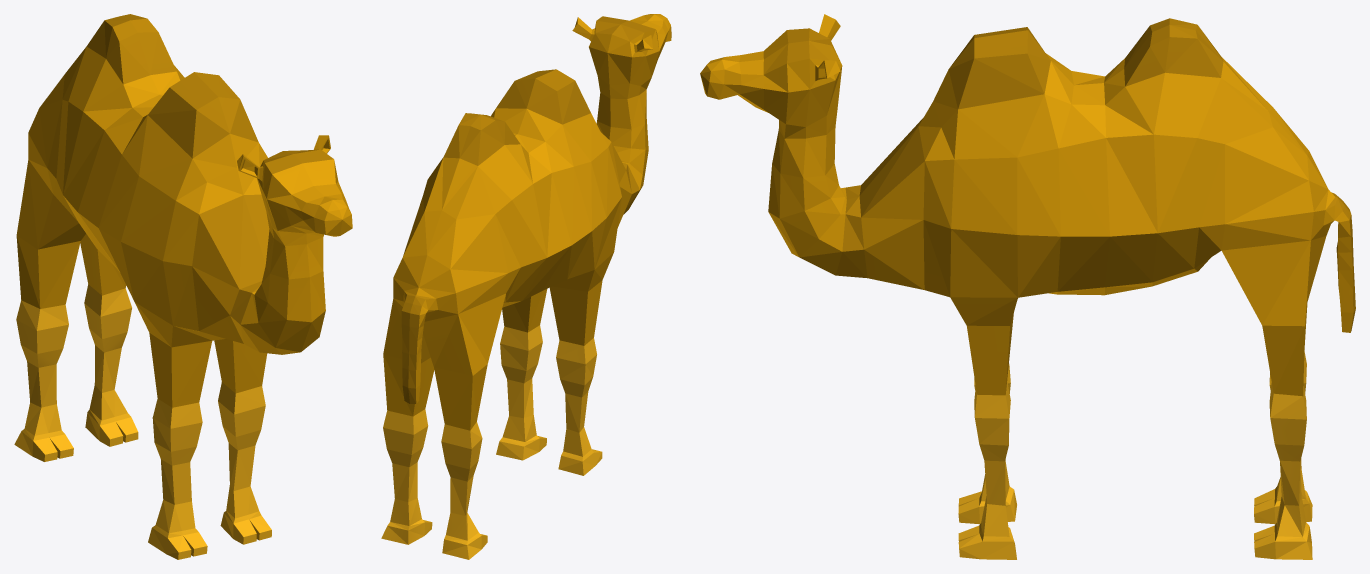
The model's file is camel.fbx.
3 views of the same model, side by side, from view 1: azimuth 30°, elevation 25°; view 2: azimuth 150°, elevation 25°; view 3: azimuth 270°, elevation 25° (orthographic). The views are drawn at different scales.
Parts seen in each view (by area): view 1: Sphere; view 2: Sphere; view 3: Sphere.
Boxes of the visible parts, left/top/right/bottom form: Sphere: left=14, top=14, right=352, bottom=559; Sphere: left=381, top=14, right=671, bottom=559; Sphere: left=700, top=14, right=1355, bottom=559.
Size of what is drawn, in the model's own units: 300 by 816 by 954.
